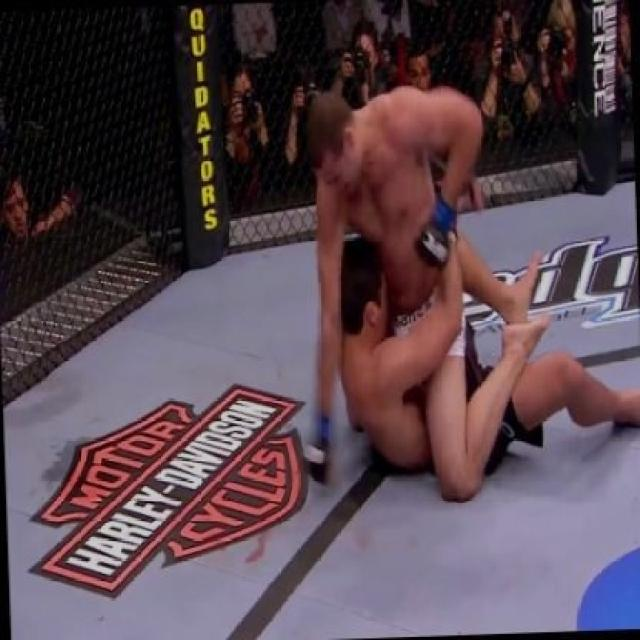fight: (292, 79, 638, 506)
